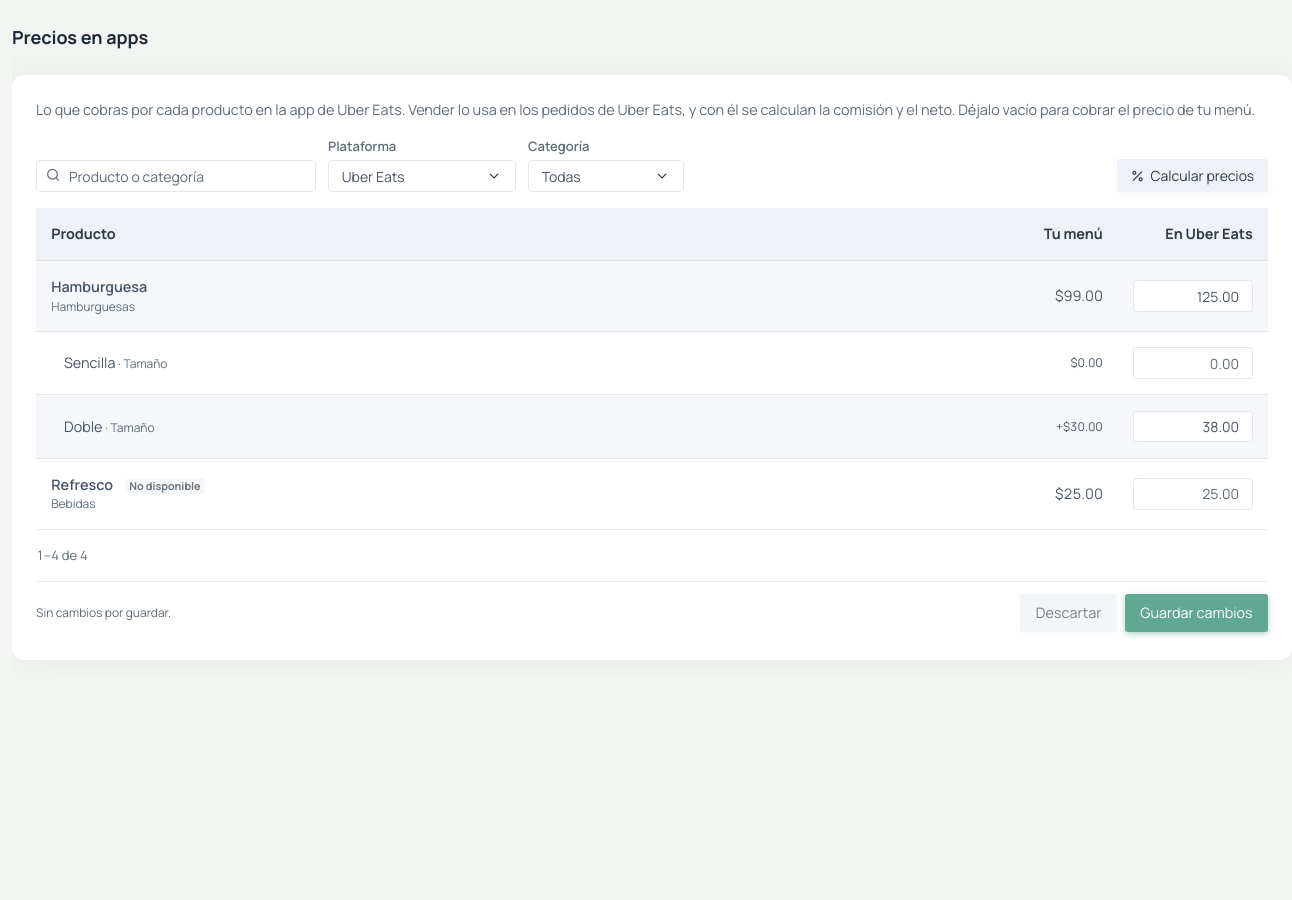
PlatformPrices › saves only the prices that changed, and shows the list the API reads again
The width and height of the screenshot is (1292, 900).
Clear the field named "Precio de Hamburguesa en Uber Eats" at (1193, 296), box [1133,280,1253,312]
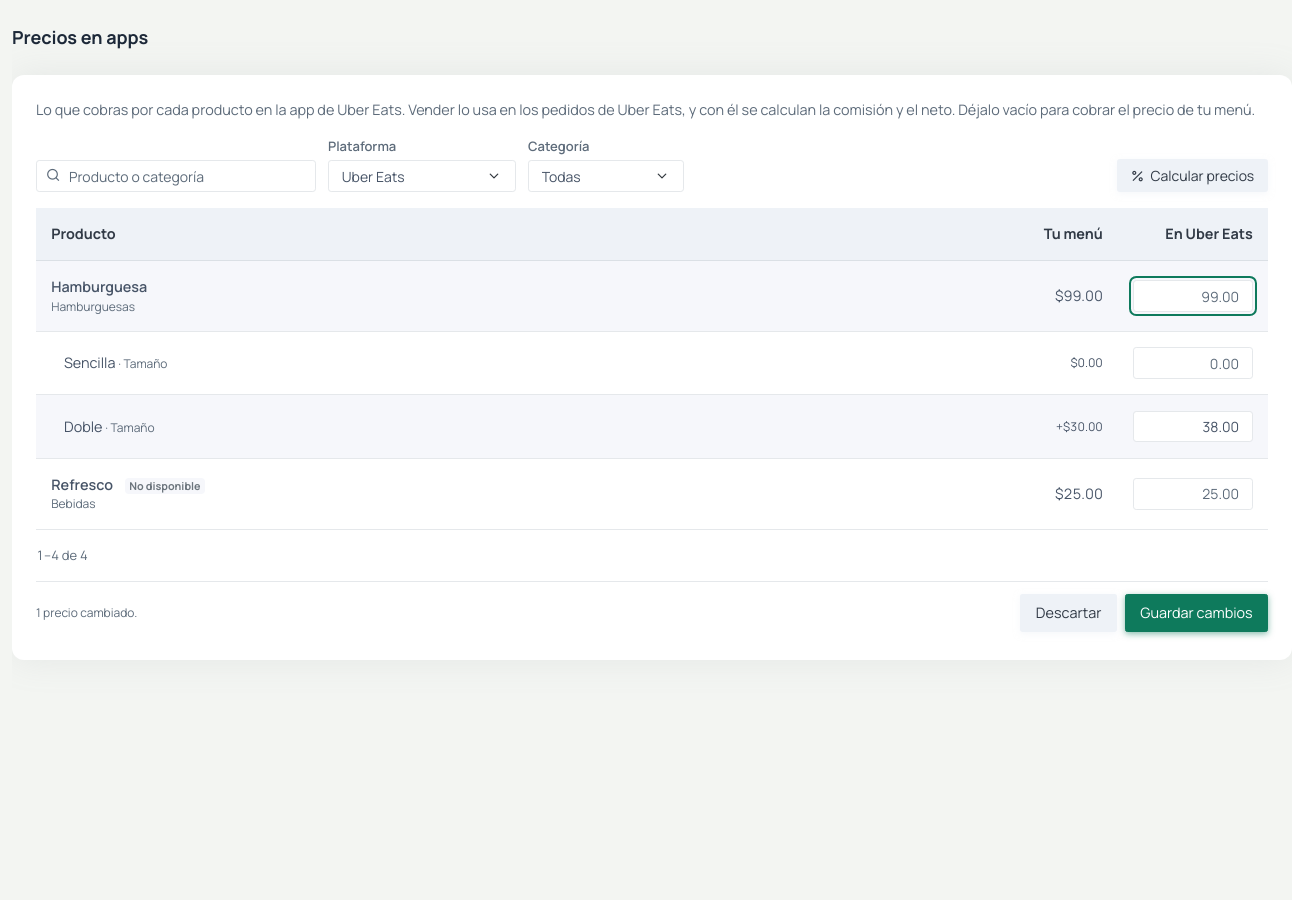
Type "32" into the field named "Precio de Refresco en Uber Eats" at (1193, 494), box [1133,478,1253,510]
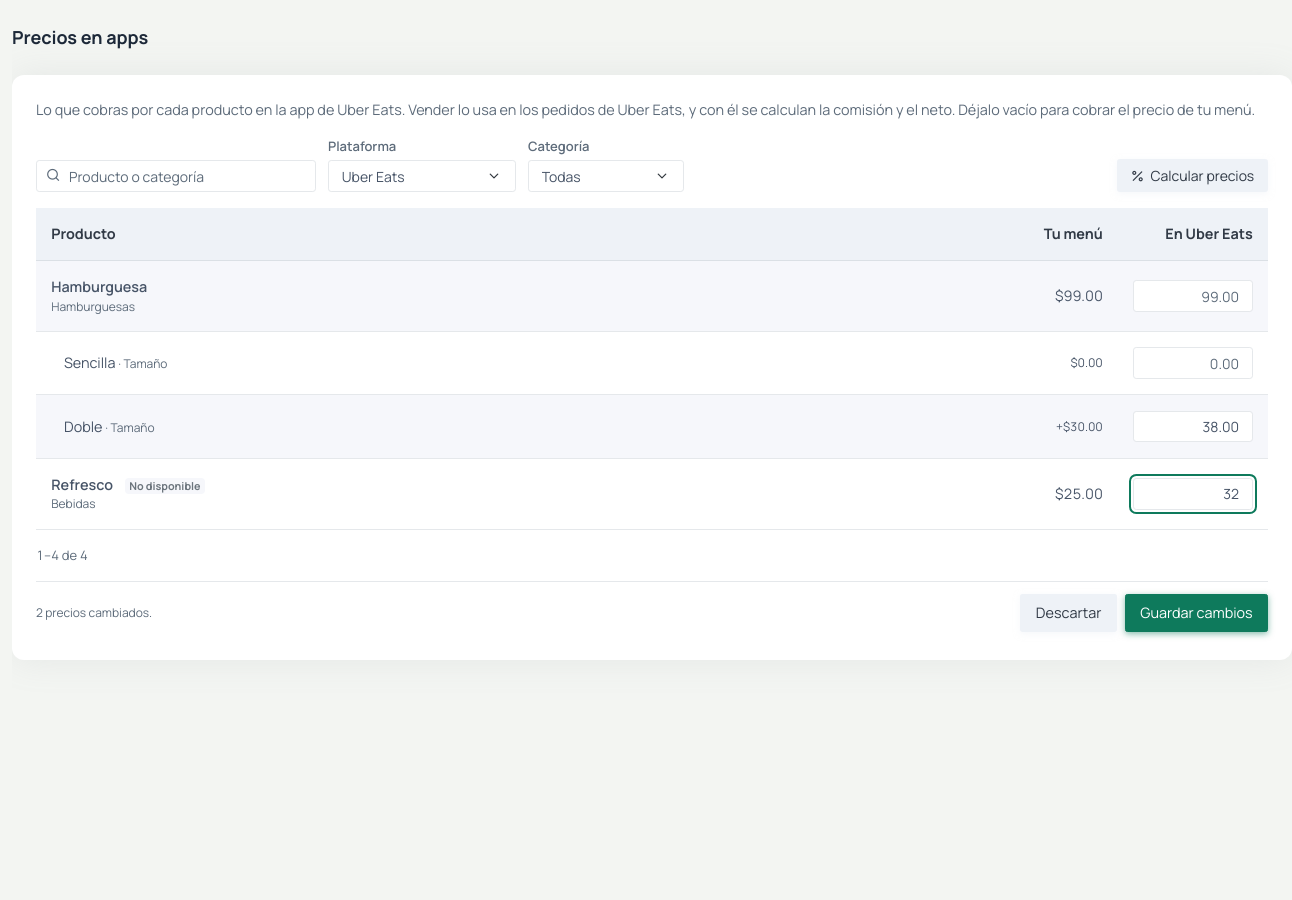
Result: the text "2 precios cambiados." is shown at [36,604,152,622]
Click the button "Guardar cambios" at (1196, 613), box [1125,594,1268,632]
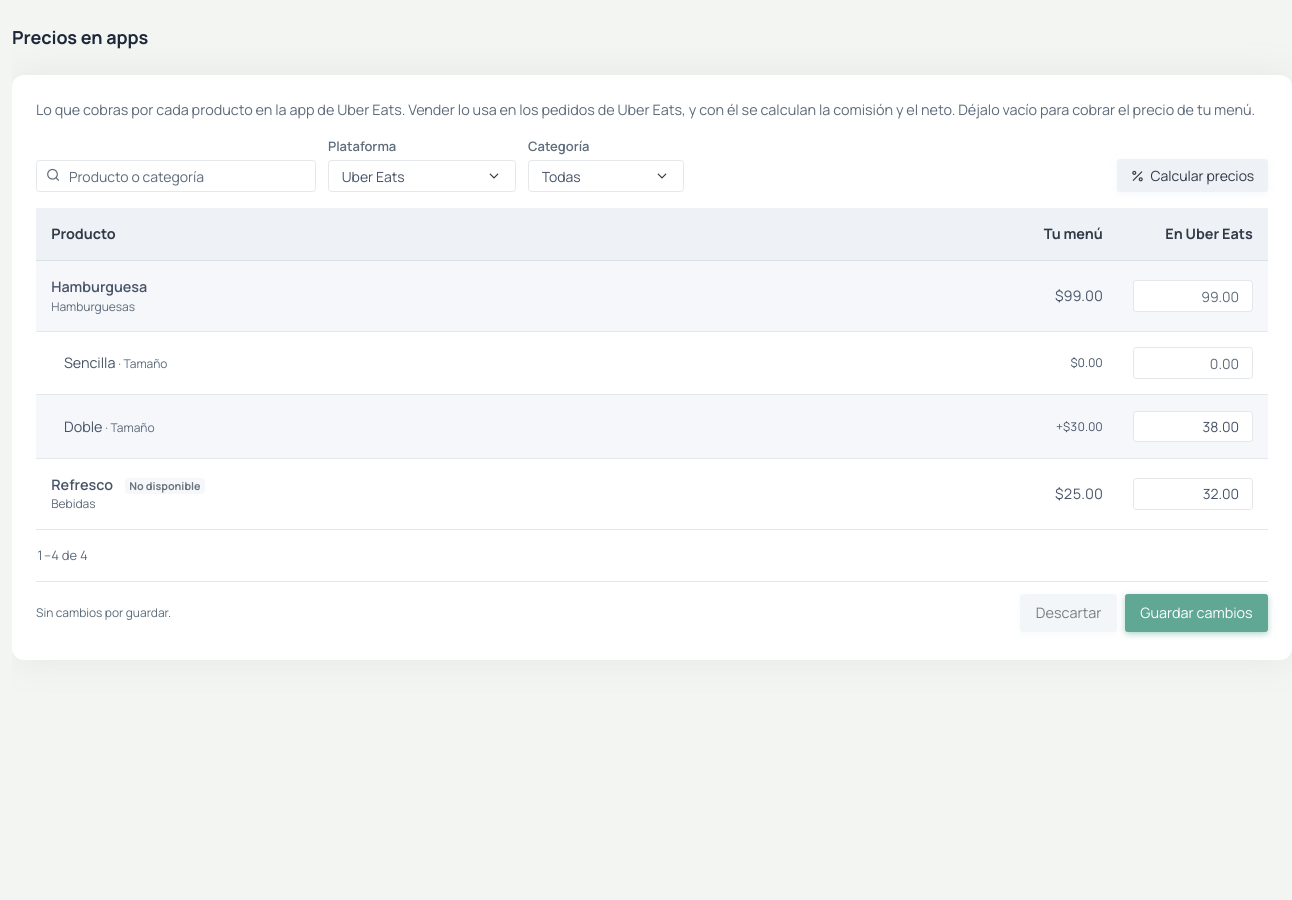
Result: the text "Sin cambios por guardar." is shown at [36,604,171,622]
Result: the field named "Precio de Refresco en Uber Eats" holds "32.00" at [1133,478,1253,510]
